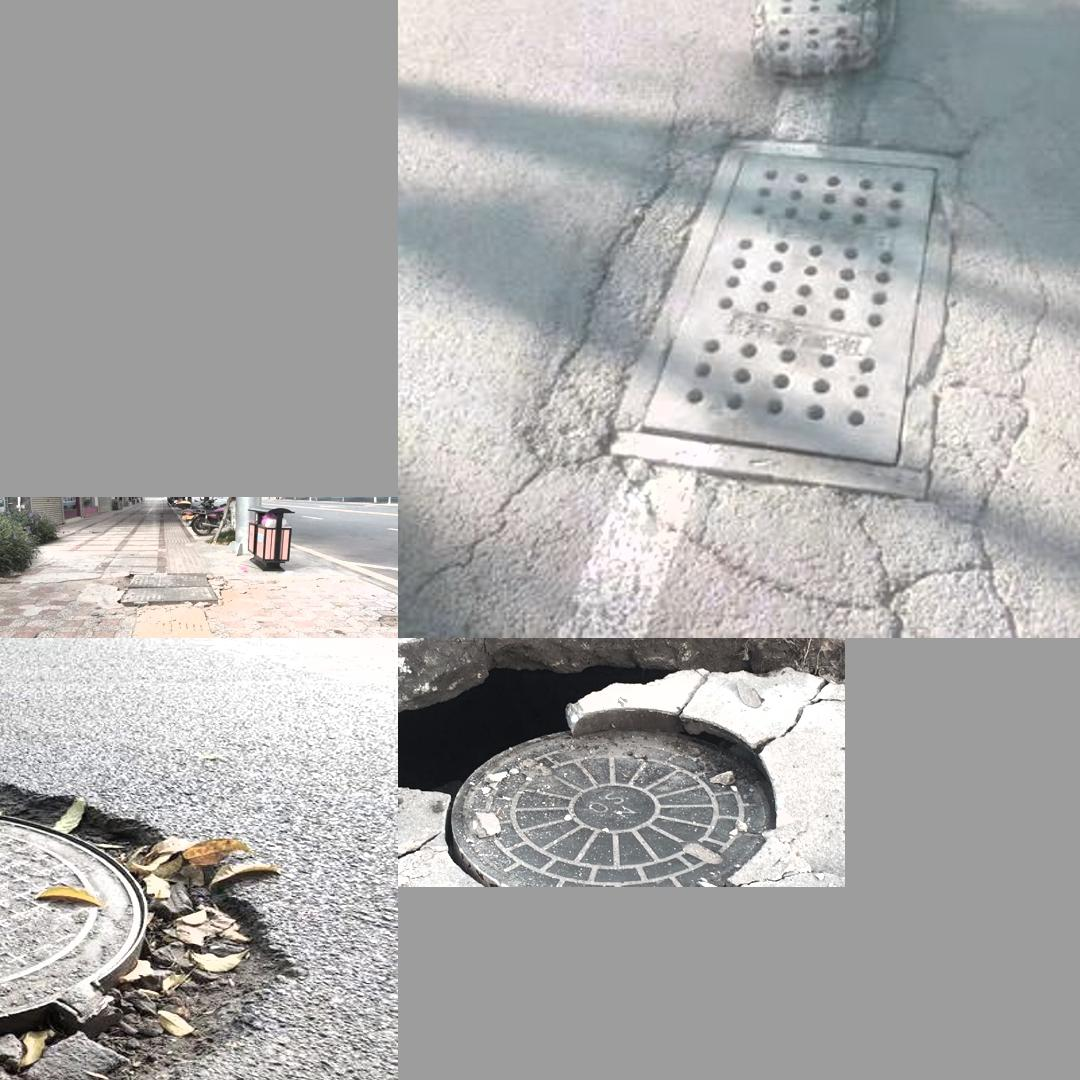circle: (511, 95, 1066, 599), (405, 647, 839, 884), (0, 772, 276, 1080), (100, 563, 246, 621)
